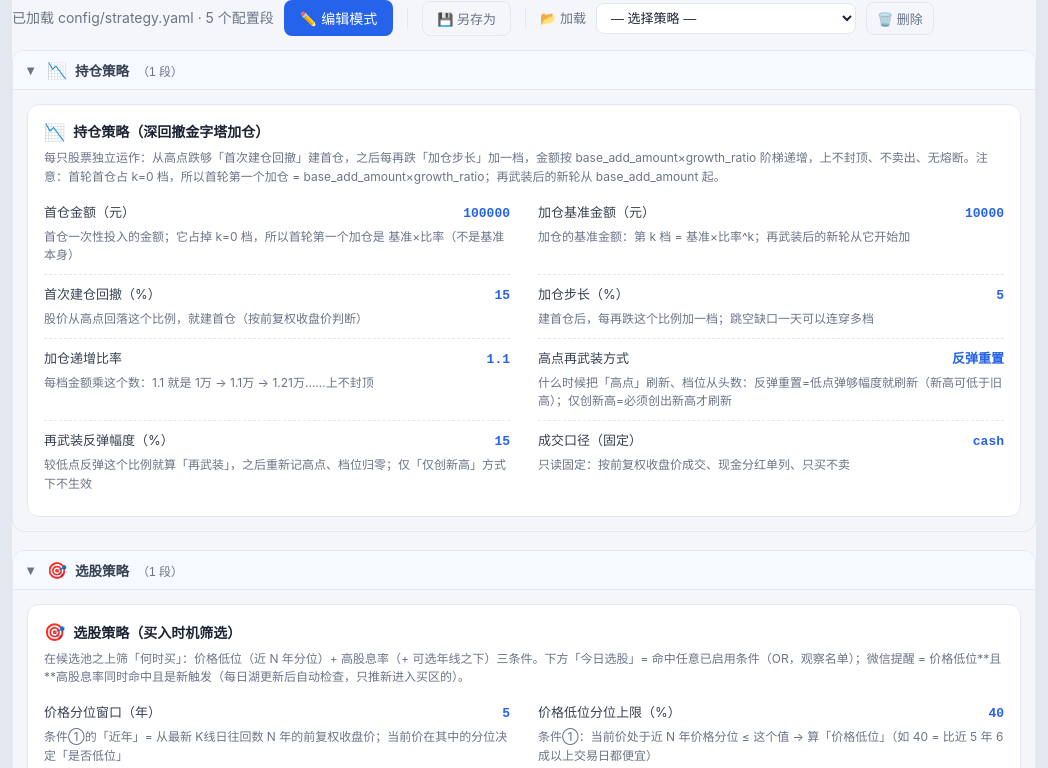
Test: v7 · 本地保存校验（int/float/list；400 保持编辑态） › PUT 400（detail.errors）→ 保持编辑态 + msg-box 显示错误
Click the button with id "btn-strategy-edit". click: (339, 18)
box: [284,0,393,36]
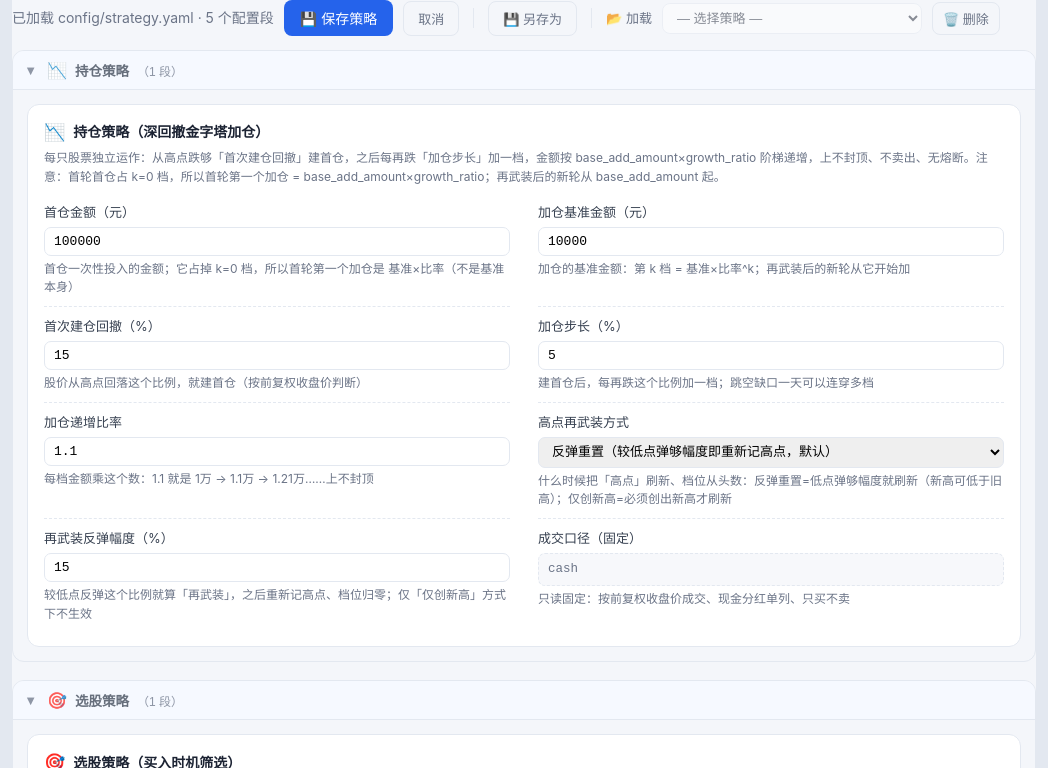
Click the button with id "btn-strategy-save". click: (339, 18)
box: [284,0,393,36]
(page scrolled)
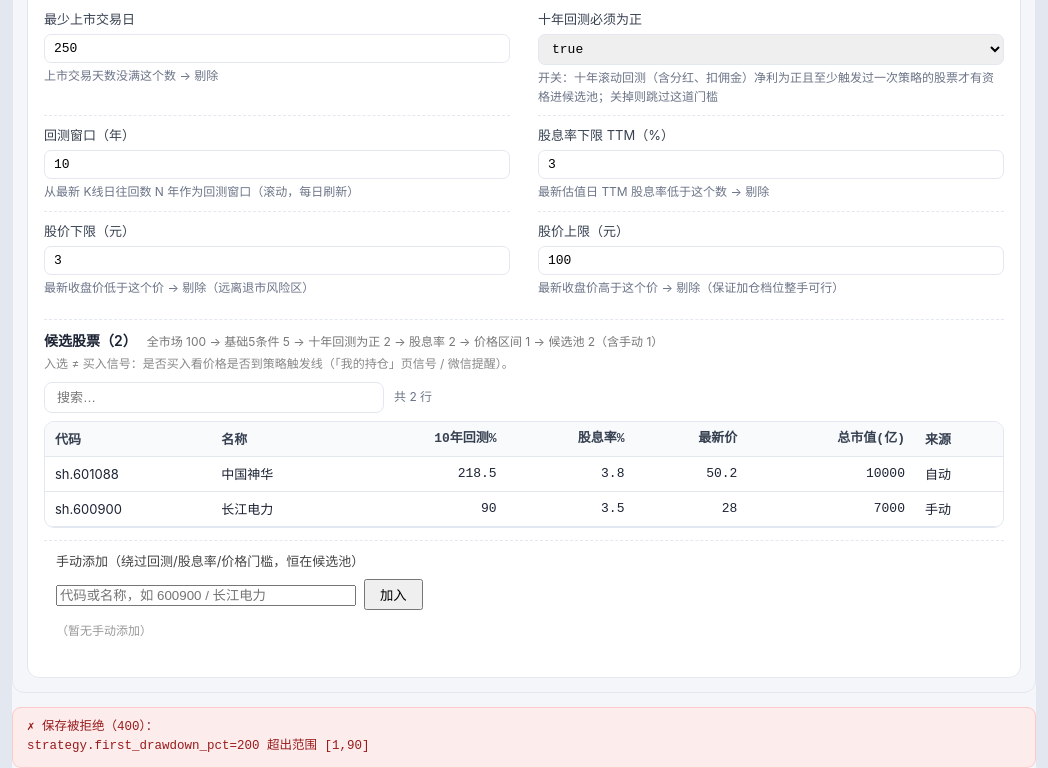
Expected: the text with class "msg-err" shows "超出范围", [27,720,370,753]
